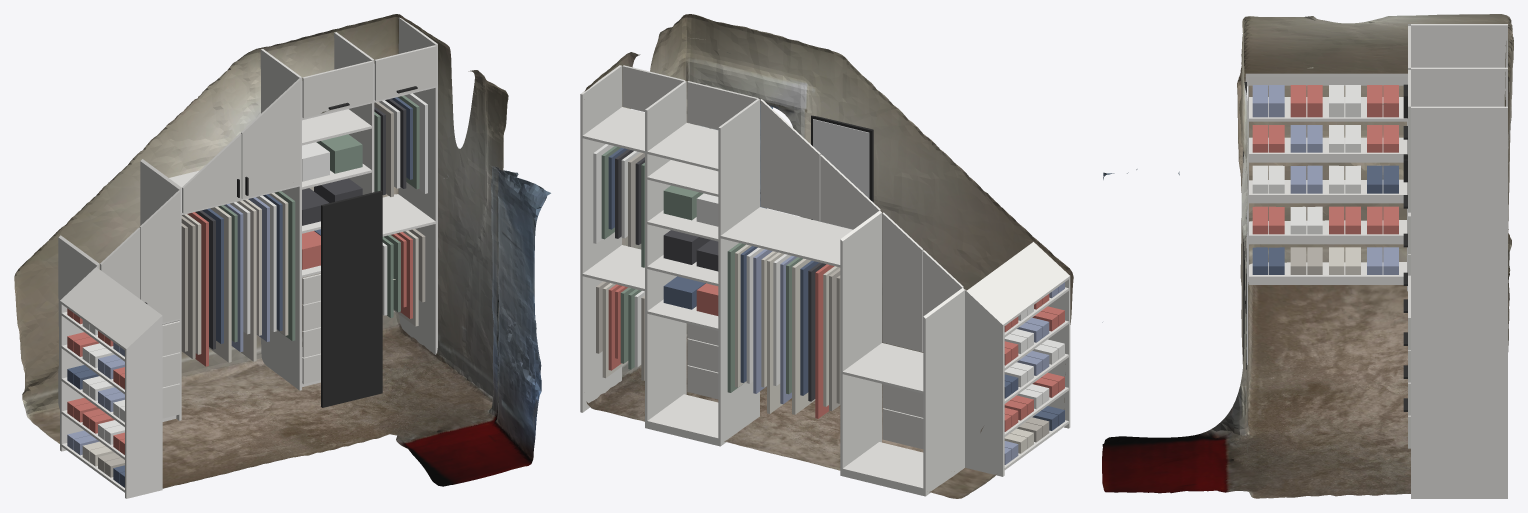
3 views of the same model, side by side, from view 1: azimuth 30°, elevation 25°; view 2: azimuth 150°, elevation 25°; view 3: azimuth 270°, elevation 25° (orthographic). The views are drawn at different scales.
Visible parts, largest first — view 1: Scan_Closet, Mirror_Frame, R_Side_Front, S2_Door_R, P4, P2, S1_Door_R, R_Top, C_Door, S2_Door_L, D_Door, P3 (+42 smaller); view 2: Scan_Closet, P1, P3, P2, S1_Side_L, P4, Corner_Filler, S2_Door_R, S1_Door_R, S2_CabBottom, R_Top, S1_Bottom (+55 smaller); view 3: Scan_Closet, P4, P2, P3, R_Top, R_Shelf_5, R_Lip_4, R_Lip_3, R_Lip_2, R_Shelf_4, R_Shelf_2, R_Shelf_3 (+30 smaller).
Boxes of the visible parts, box(x1,y1,x2,y2) form: Scan_Closet: box(14, 14, 550, 488); Mirror_Frame: box(321, 190, 382, 407); R_Side_Front: box(125, 314, 162, 498); S2_Door_R: box(241, 78, 300, 198); P4: box(398, 17, 437, 354); P2: box(260, 49, 301, 390); S1_Door_R: box(139, 190, 180, 322); R_Top: box(61, 267, 161, 350); C_Door: box(302, 60, 372, 118); S2_Door_L: box(182, 133, 241, 213); D_Door: box(374, 45, 436, 100); P3: box(334, 32, 374, 194); Scan_Closet: box(584, 14, 1073, 498); P1: box(840, 210, 881, 476); P3: box(645, 81, 686, 428); P2: box(718, 99, 759, 446); S1_Side_L: box(923, 288, 964, 494); P4: box(580, 65, 621, 412); Corner_Filler: box(965, 289, 1003, 476); S2_Door_R: box(760, 99, 820, 220); S1_Door_R: box(882, 212, 923, 351); S2_CabBottom: box(720, 207, 852, 267); R_Top: box(967, 242, 1070, 325); S1_Bottom: box(842, 442, 962, 496); Scan_Closet: box(1102, 14, 1513, 498); P4: box(1411, 106, 1507, 498); P2: box(1411, 24, 1507, 67); P3: box(1411, 67, 1507, 106); R_Top: box(1245, 73, 1407, 85); R_Shelf_5: box(1249, 97, 1406, 121); R_Lip_4: box(1249, 152, 1406, 159); R_Lip_3: box(1249, 193, 1406, 200); R_Lip_2: box(1249, 234, 1403, 241); R_Shelf_4: box(1249, 137, 1406, 162); R_Shelf_2: box(1249, 220, 1406, 244); R_Shelf_3: box(1249, 179, 1406, 203).
Size of the model in its own units: 3.24 by 2.63 by 2.38.
Materials: 14 (1 with a texture image).
